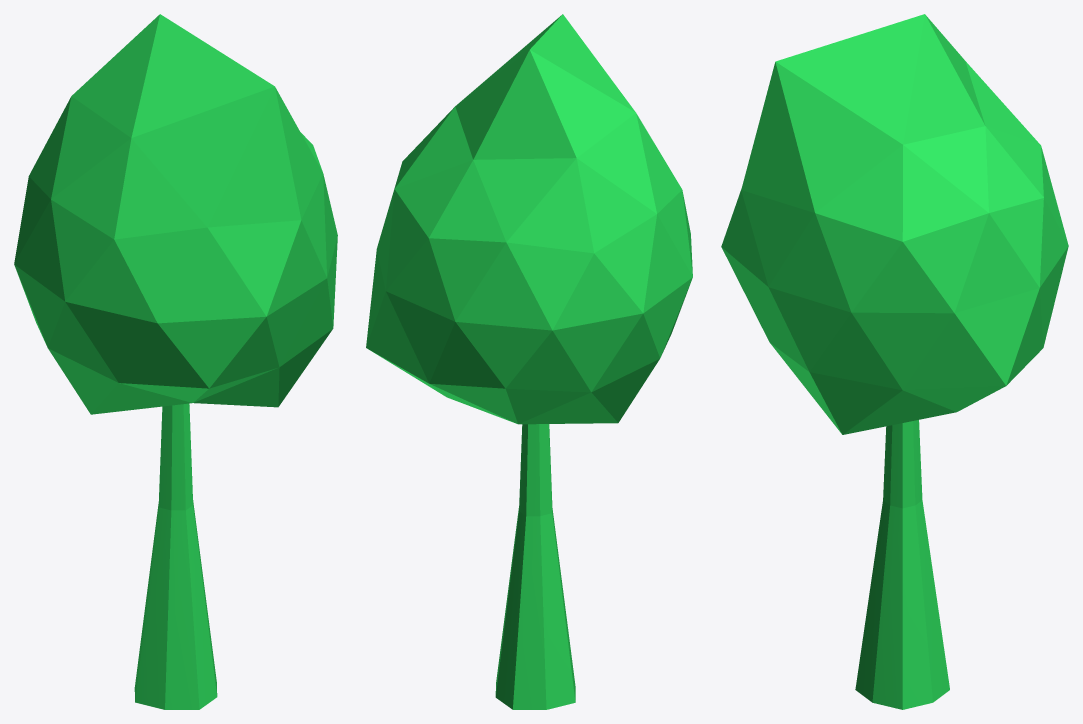
File: Tree.fbx
The picture shows the model from 3 angles, left to right: view 1: azimuth 30°, elevation 25°; view 2: azimuth 150°, elevation 25°; view 3: azimuth 270°, elevation 25°; orthographic projection. The views are drawn at different scales.
Parts seen in each view (by area): view 1: Cube; view 2: Cube; view 3: Cube.
Part boxes in pixels (x1,y1,x2,y2): Cube: [14, 14, 337, 709]; Cube: [366, 14, 692, 709]; Cube: [721, 14, 1068, 709].
Bounding box in the file's own units: 670 × 1568 × 733.
